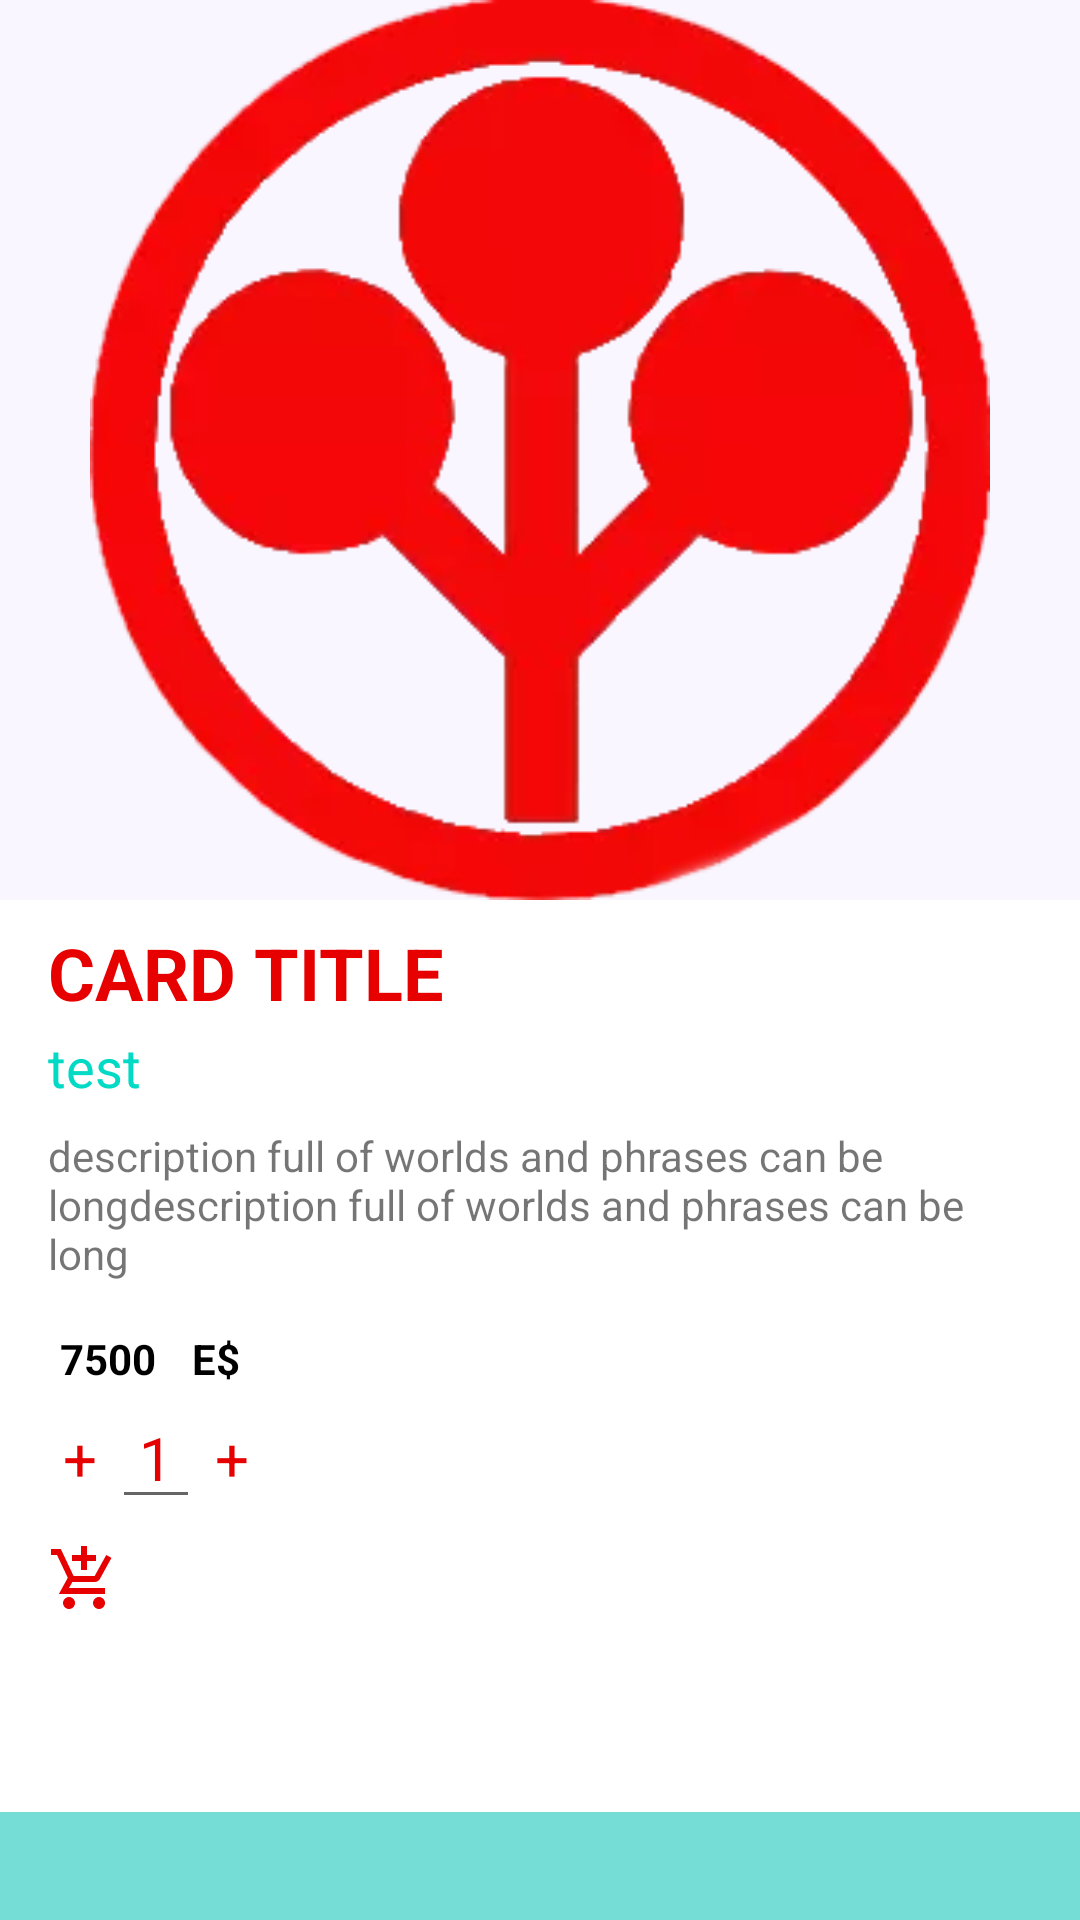

Icon bounding boxes for this 1080*1920 phone screenshot, format (x1, y1, x2, y2):
add cart: (51, 1546, 112, 1609)
